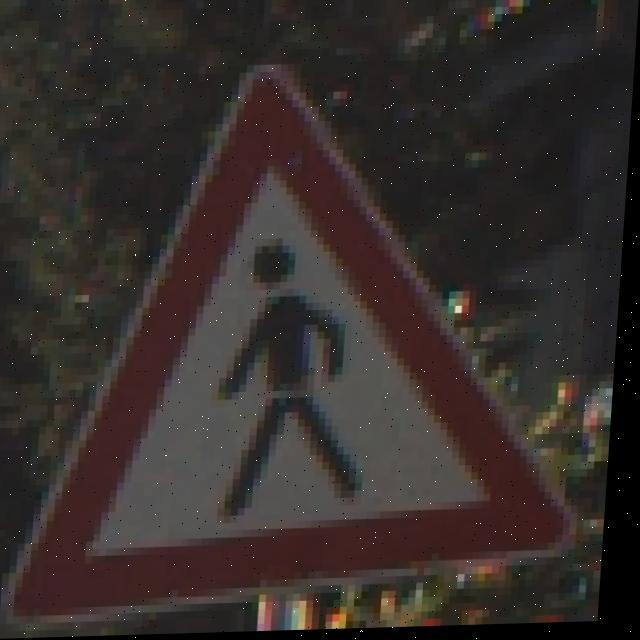crosswalk: (39, 80, 594, 580)
